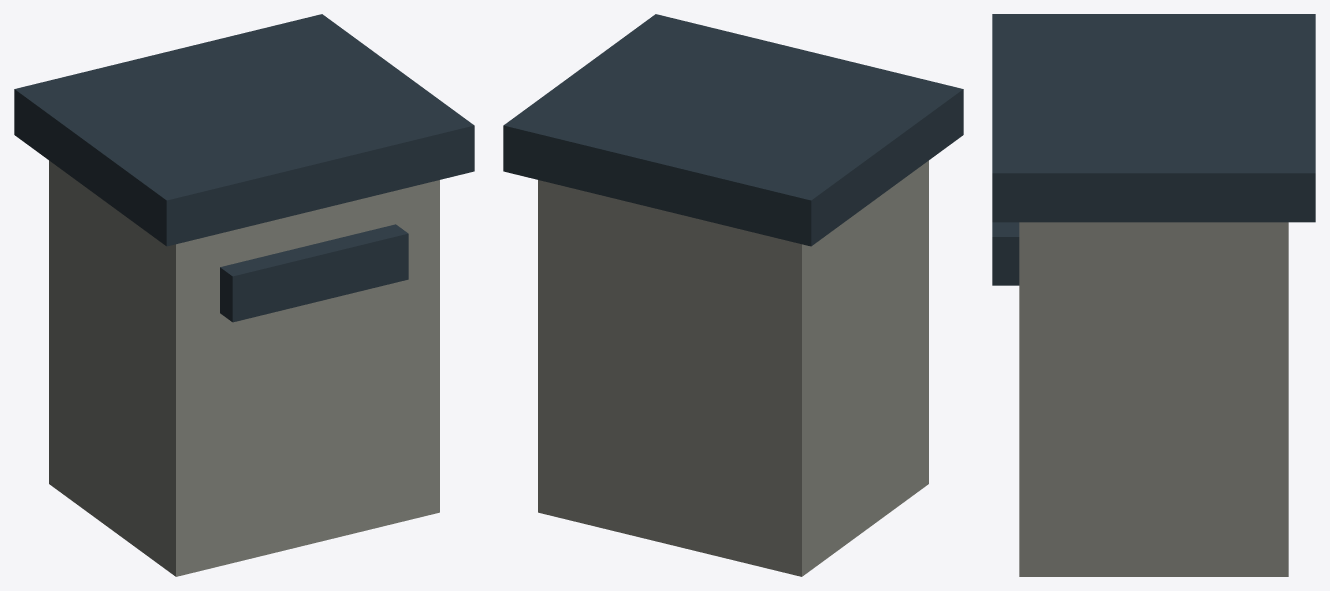
File: manufacturing-04.glb
The picture shows the model from 3 angles, left to right: view 1: azimuth 30°, elevation 25°; view 2: azimuth 150°, elevation 25°; view 3: azimuth 270°, elevation 25°; orthographic projection. The views are drawn at different scales.
Parts seen in each view (by area): view 1: Parts bin; view 2: Parts bin; view 3: Parts bin.
Part boxes in pixels (<box>): Parts bin: <box>14,14,474,576</box>; Parts bin: <box>503,14,963,576</box>; Parts bin: <box>992,14,1315,576</box>.
Size of the model in its own units: 1.12 by 1.36 by 0.96.
